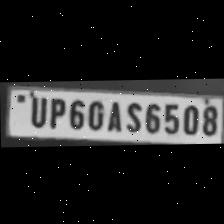0: (179, 100, 199, 134), (84, 96, 104, 129)
5: (159, 99, 179, 133)
6: (64, 95, 84, 128), (142, 98, 160, 132)
8: (198, 100, 218, 134)
A: (104, 96, 122, 130)
P: (45, 94, 65, 128)
S: (122, 98, 142, 132)
U: (26, 93, 46, 126)
